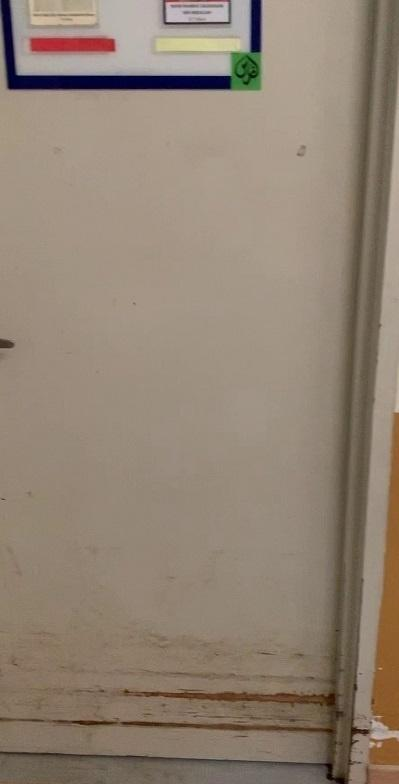door: (0, 0, 383, 784)
